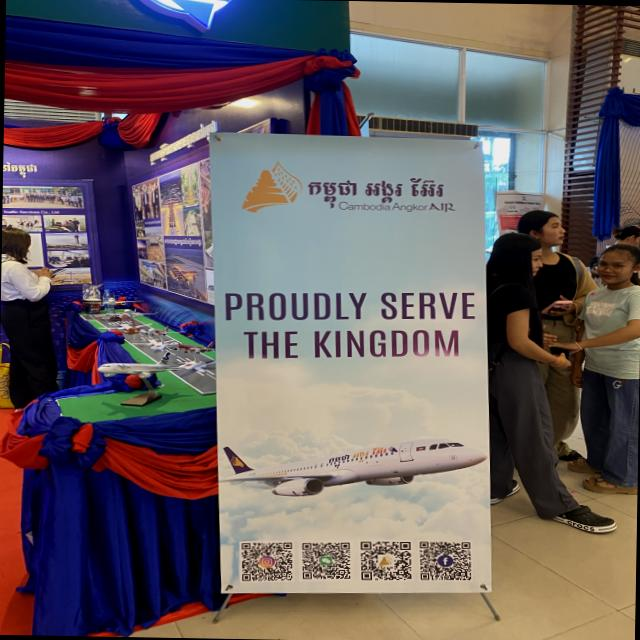2: (305, 174, 457, 210)
Yolov11kh: (6, 162, 40, 177)
